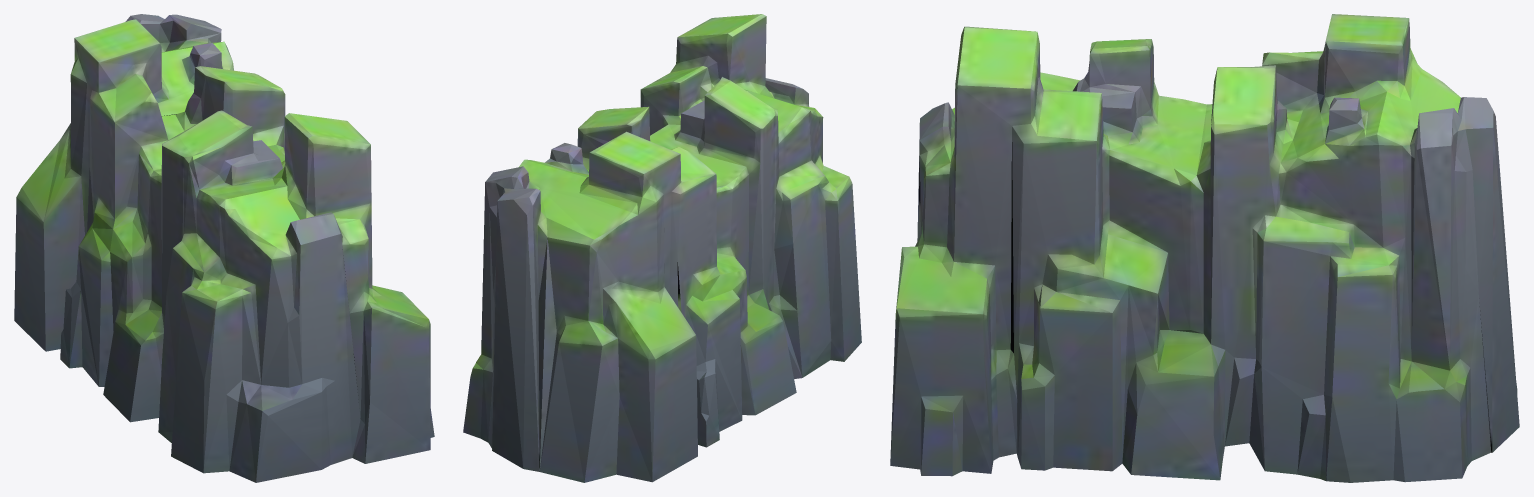
The model's file is cliff_tall_moss.glb.
The picture shows the model from 3 angles, left to right: view 1: azimuth 30°, elevation 25°; view 2: azimuth 150°, elevation 25°; view 3: azimuth 270°, elevation 25°; orthographic projection. The views are drawn at different scales.
Visible parts, largest first — view 1: cliff_tall_moss; view 2: cliff_tall_moss; view 3: cliff_tall_moss.
Boxes of the visible parts, x1=… form: cliff_tall_moss: x1=14, y1=14, x2=434, y2=482; cliff_tall_moss: x1=463, y1=14, x2=861, y2=482; cliff_tall_moss: x1=890, y1=14, x2=1519, y2=482.
Bounding box in the file's own units: 6.09 × 7.95 × 11.74.
1 material, 1 textured.
